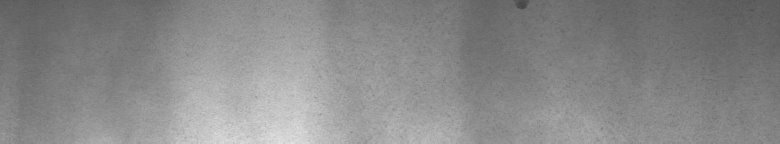fi: (515, 4, 529, 16)
